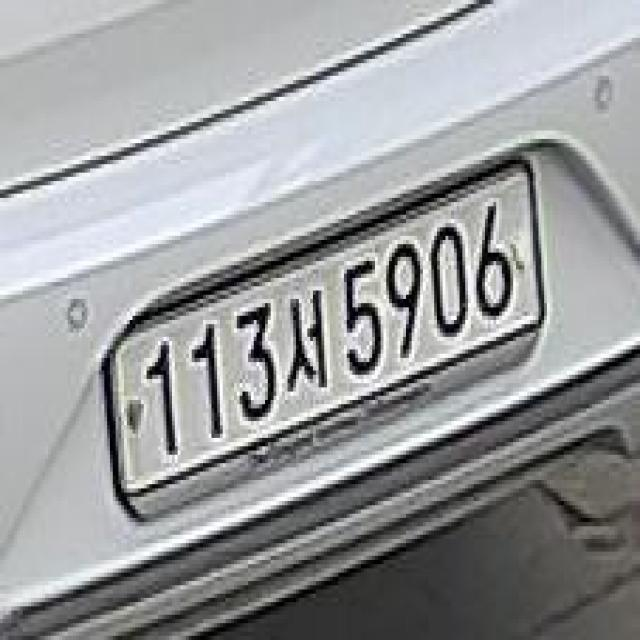illegal_plate: (99, 160, 553, 525)
